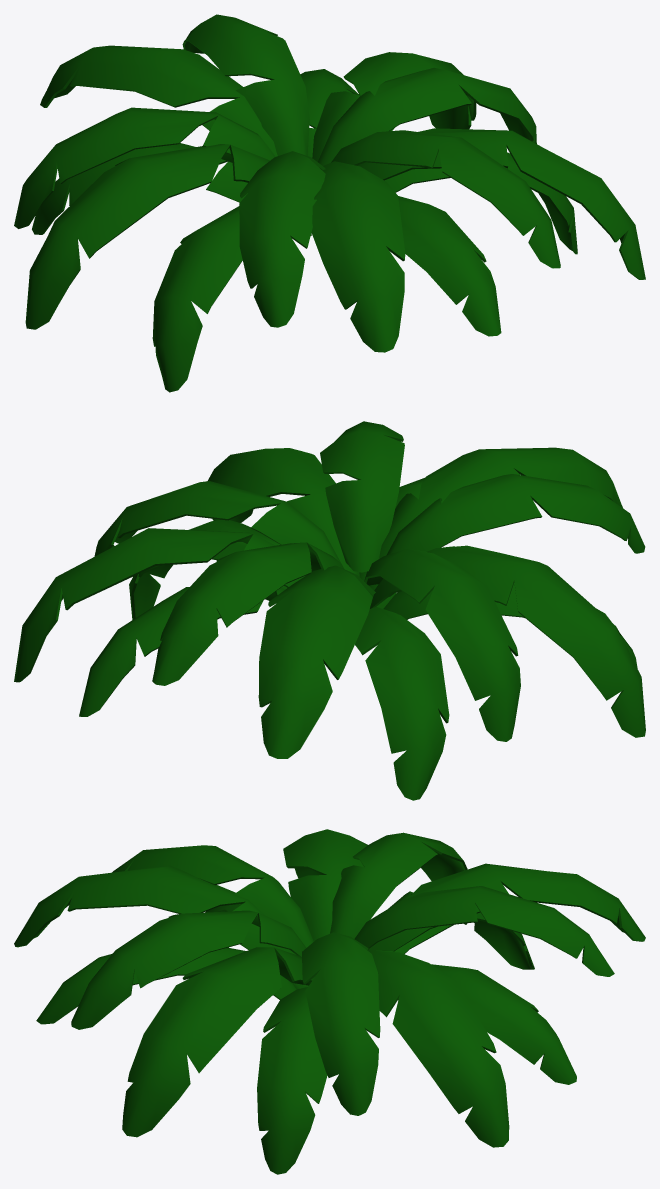
Rendered from palmKorona.fbx.
3 views of the same model, one above another, from view 1: azimuth 30°, elevation 25°; view 2: azimuth 150°, elevation 25°; view 3: azimuth 270°, elevation 25° (orthographic). The views are drawn at different scales.
Parts seen in each view (by area): view 1: Plane003; view 2: Plane003; view 3: Plane003.
Boxes of the visible parts, left/top/right/bottom form: Plane003: left=14, top=14, right=645, bottom=392; Plane003: left=14, top=421, right=645, bottom=800; Plane003: left=14, top=829, right=645, bottom=1174.
Bounding box in the file's own units: 279 × 100 × 312.
